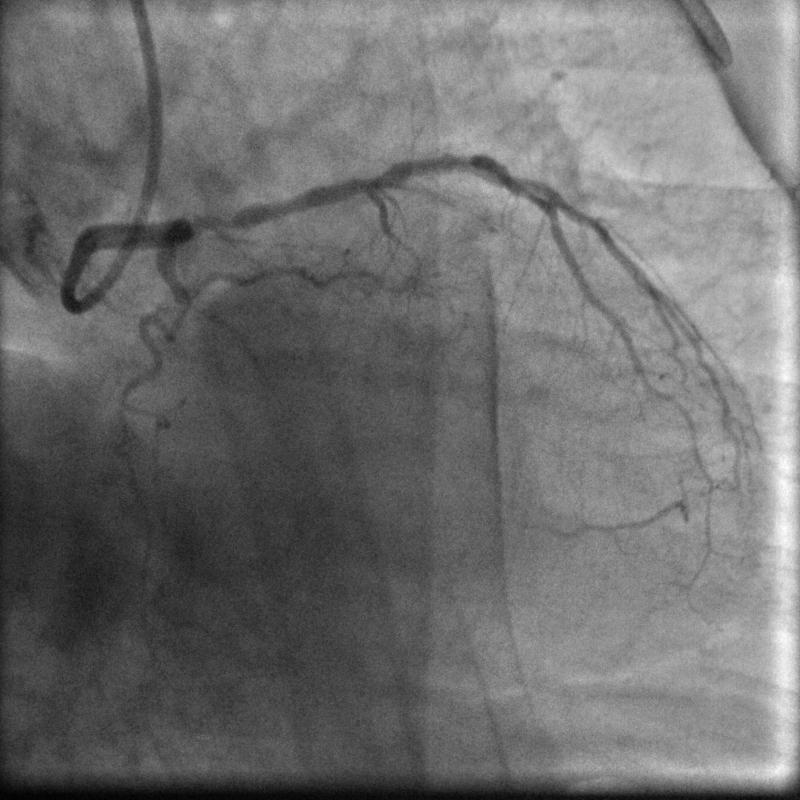Stenosis: (190, 208, 247, 231)
